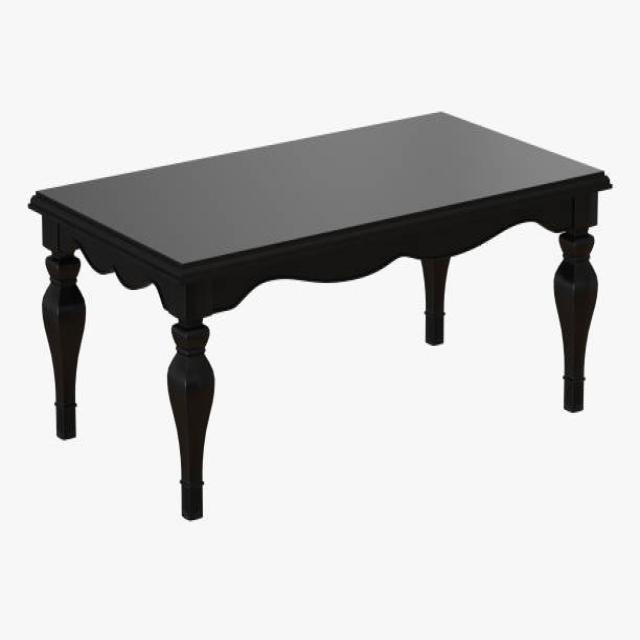table: (27, 107, 613, 520)
